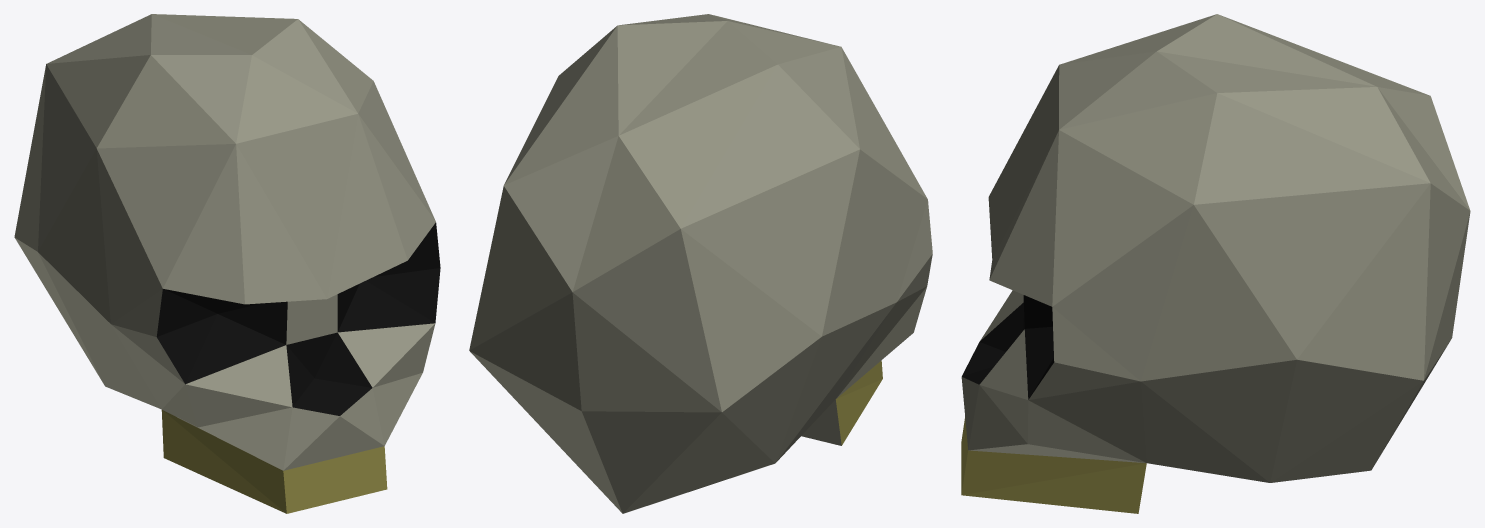
The model's file is OC_DECORATE_V4.OBJ.
The picture shows the model from 3 angles, left to right: view 1: azimuth 30°, elevation 25°; view 2: azimuth 150°, elevation 25°; view 3: azimuth 270°, elevation 25°; orthographic projection. The views are drawn at different scales.
Parts seen in each view (by area): view 1: OC_DECORATE_V4; view 2: OC_DECORATE_V4; view 3: OC_DECORATE_V4.
Part boxes in pixels (x1=…): OC_DECORATE_V4: x1=14, y1=14, x2=440, y2=513; OC_DECORATE_V4: x1=469, y1=14, x2=932, y2=513; OC_DECORATE_V4: x1=961, y1=14, x2=1470, y2=513.
Size of the model in its own units: 0.1559 by 0.189 by 0.2077.
